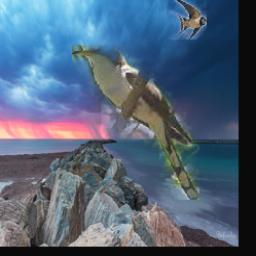Cuckoo: (72, 46, 199, 201)
Swallow: (170, 0, 208, 40)
